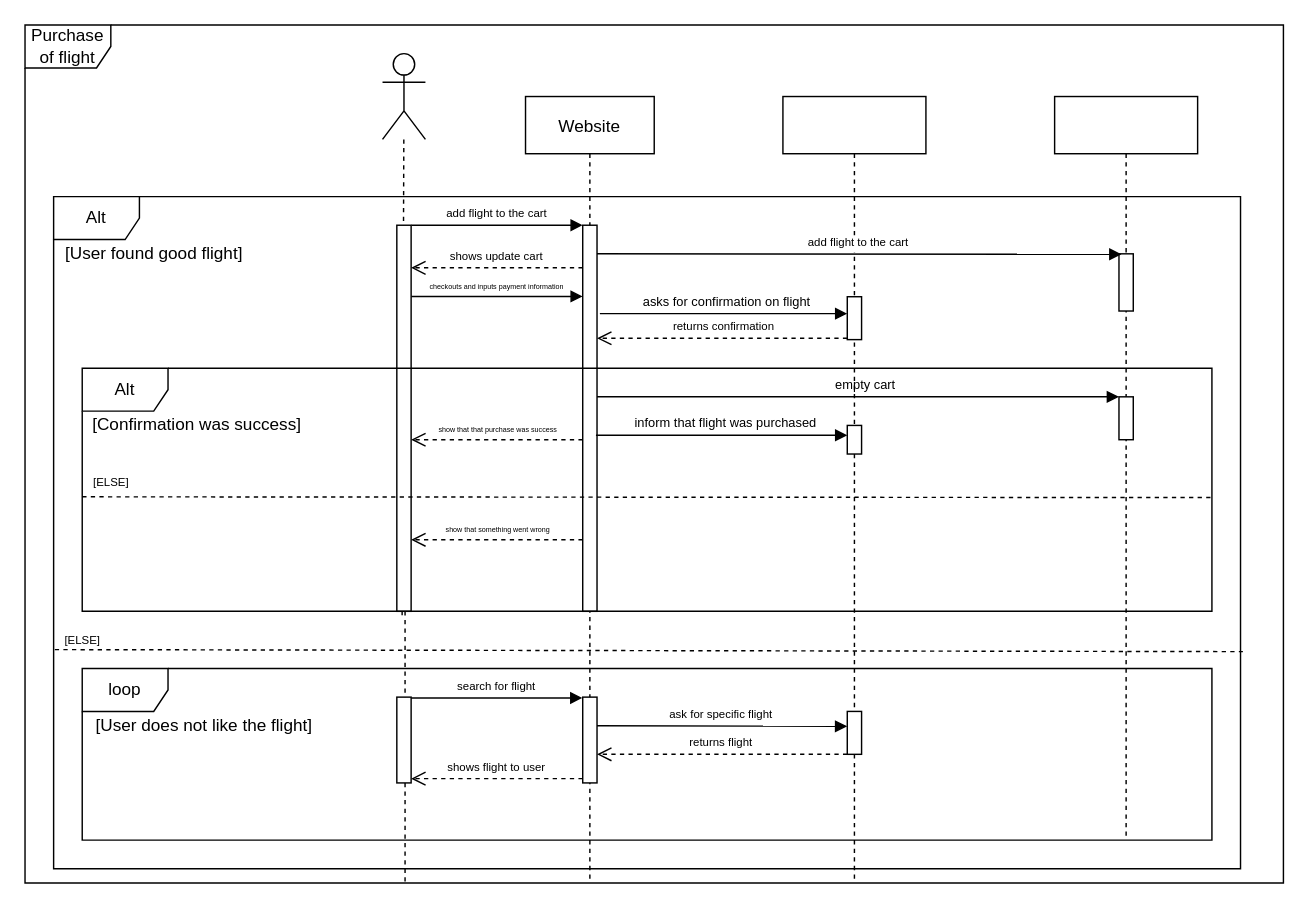
Some shapes in this 1308 by 912 pixel diagram are drawn without their labels. The centre of each missing label's shape, as x and y in pixels:
Cart: pixel 1125 467
DataBase: pixel 853 489
User: pixel 403 95
